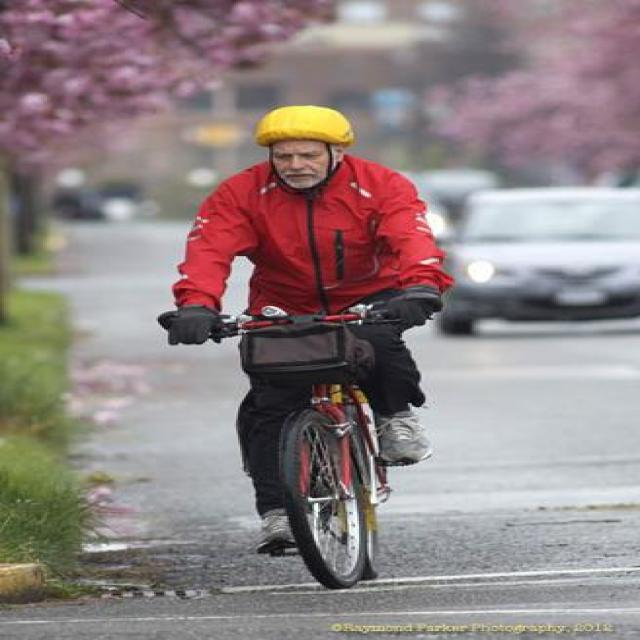bikerider: (111, 88, 498, 603)
